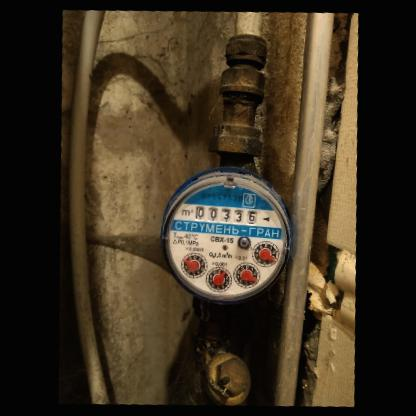digital_screen: (193, 202, 260, 225)
